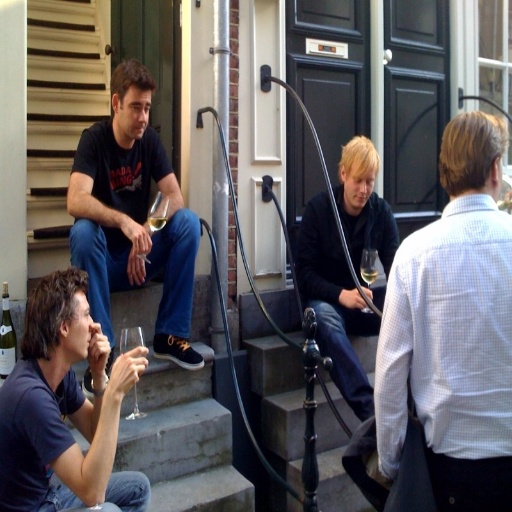hand: (89, 351, 142, 413), (88, 320, 112, 378), (121, 213, 152, 256), (126, 246, 146, 288), (344, 285, 374, 309)
